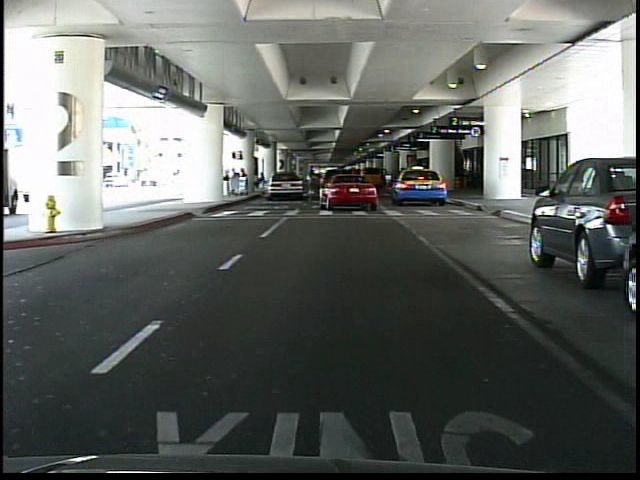person: (306, 165, 319, 199)
